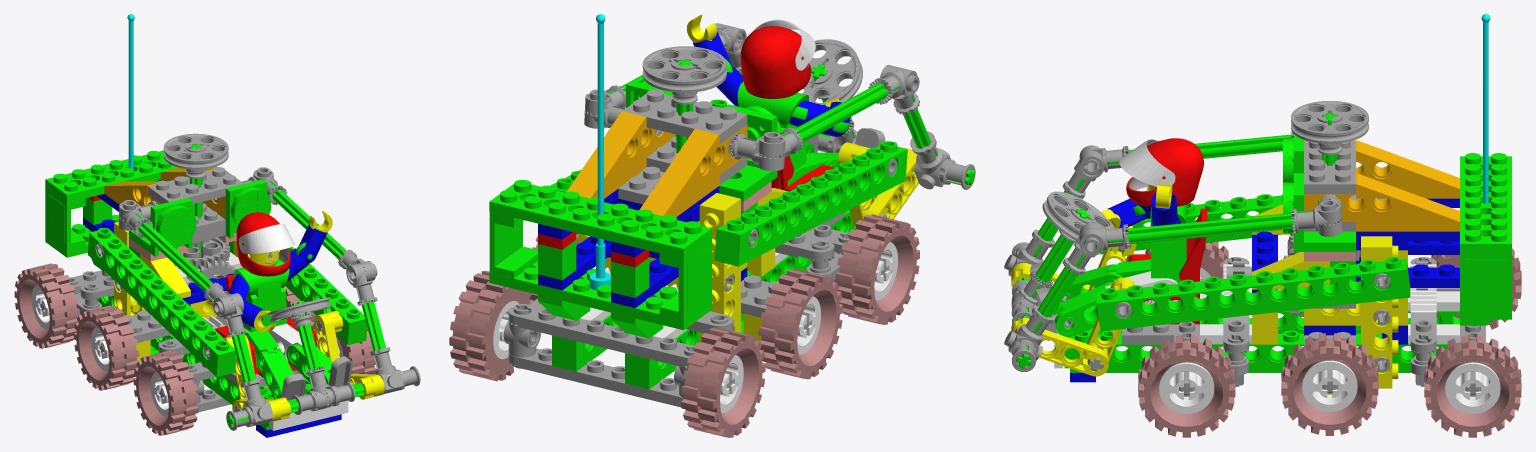
The model's file is Buggy.gltf.
3 views of the same model, side by side, from view 1: azimuth 30°, elevation 25°; view 2: azimuth 150°, elevation 25°; view 3: azimuth 270°, elevation 25° (orthographic). The views are drawn at different scales.
Parts seen in each view (by area): view 1: body_115 (×3), prt_1_12_SOLIDS_1, body_113, prt_2_8_t_SOLIDS_4, body_64 (×5), prt_1_12_SOLIDS_3, body_82, body_21, technic_driver_torso_p_SOLIDS_1, body_70 (×2), technic_1_2_side_p_SOLIDS_3, technic_driver_helmet_p_SOLIDS_1 (+42 smaller); view 2: body_115 (×3), prt_1_12_SOLIDS_1, prt_2_8_t_SOLIDS_4, body_113, body_107 (×4), body_64 (×7), body_68, body_23, technic_driver_helmet_p_SOLIDS_1, prt_2_8_t_SOLIDS_1, body_21, body_82 (+31 smaller); view 3: body_115 (×4), prt_1_12_SOLIDS_3, body_114 (×3), prt_2_8_t_SOLIDS_4, body_23, body_64 (×5), prt_1_16_SOLIDS_1, body_68, prt_1_6_SOLIDS_1, technic_1_2_side_p_SOLIDS_1, technic_driver_helmet_p_SOLIDS_1, body_59 (×3) (+34 smaller).
Part boxes in pixels (x1,y1,x2,y2): body_115 (×3): [74, 305, 376, 435]; prt_1_12_SOLIDS_1: [87, 228, 236, 377]; body_113: [14, 263, 79, 348]; prt_2_8_t_SOLIDS_4: [45, 144, 197, 202]; body_64 (×5): [119, 202, 377, 337]; prt_1_12_SOLIDS_3: [285, 247, 367, 344]; body_82: [163, 133, 228, 169]; body_21: [148, 167, 243, 204]; technic_driver_torso_p_SOLIDS_1: [234, 259, 289, 332]; body_70 (×2): [314, 310, 384, 399]; technic_1_2_side_p_SOLIDS_3: [45, 187, 85, 249]; technic_driver_helmet_p_SOLIDS_1: [236, 212, 290, 276]; body_115 (×3): [449, 214, 919, 381]; prt_1_12_SOLIDS_1: [714, 141, 907, 266]; prt_2_8_t_SOLIDS_4: [489, 179, 711, 258]; body_113: [681, 327, 765, 437]; body_107 (×4): [508, 224, 844, 367]; body_64 (×7): [584, 26, 919, 171]; body_68: [639, 124, 747, 217]; body_23: [567, 111, 674, 198]; technic_driver_helmet_p_SOLIDS_1: [740, 26, 810, 98]; prt_2_8_t_SOLIDS_1: [489, 261, 711, 330]; body_21: [623, 89, 747, 144]; body_82: [642, 46, 726, 92]; body_115 (×4): [1138, 241, 1521, 437]; prt_1_12_SOLIDS_3: [1096, 257, 1410, 331]; body_114 (×3): [1159, 353, 1500, 413]; prt_2_8_t_SOLIDS_4: [1460, 153, 1511, 253]; body_23: [1304, 173, 1459, 231]; body_64 (×5): [1062, 145, 1341, 275]; prt_1_16_SOLIDS_1: [1070, 330, 1458, 372]; body_68: [1355, 140, 1459, 198]; prt_1_6_SOLIDS_1: [1361, 236, 1398, 388]; technic_1_2_side_p_SOLIDS_1: [1460, 253, 1511, 309]; technic_driver_helmet_p_SOLIDS_1: [1126, 138, 1203, 206]; body_59 (×3): [1252, 231, 1459, 293].
Bounding box in the file's own units: 87.04 × 124 × 159.
